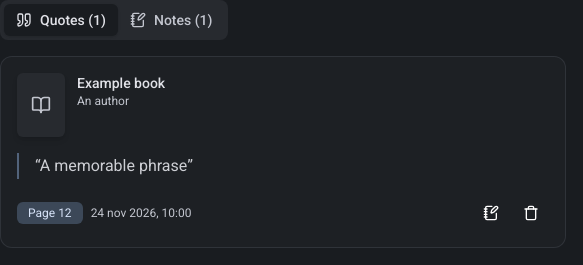
Test case: highlight categories and actions › separates quotes and notes, with counts and normal text for research notes
Check: the text "Investigate Las meninas" is not shown
Press the mouse on the tab "Notes (1)": (171, 20) 118,4 -> 224,36
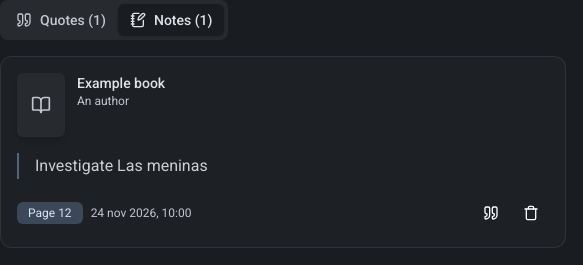
Check: the text "A memorable phrase" is gone
